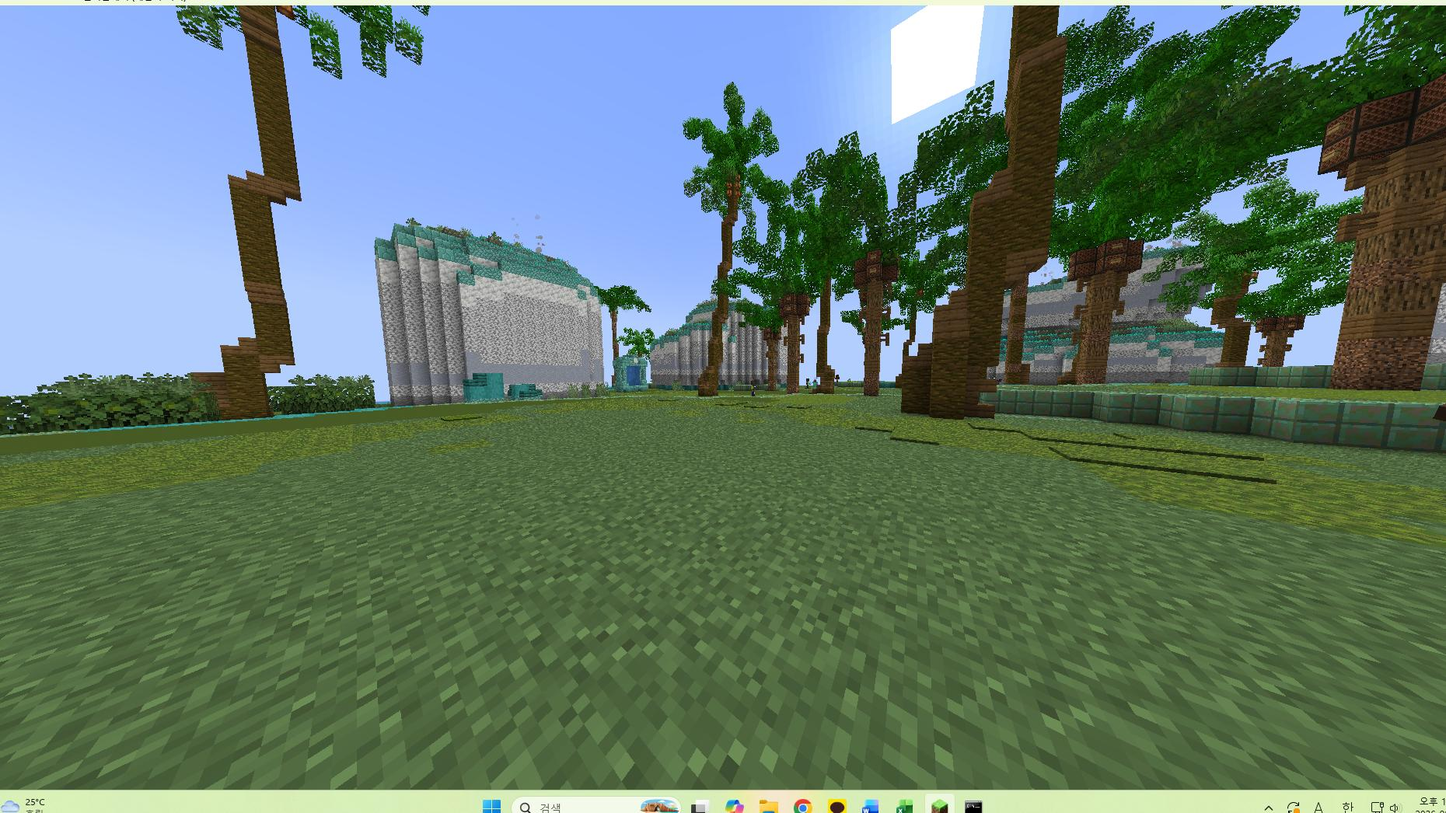Guardian: (750, 379, 756, 394)
